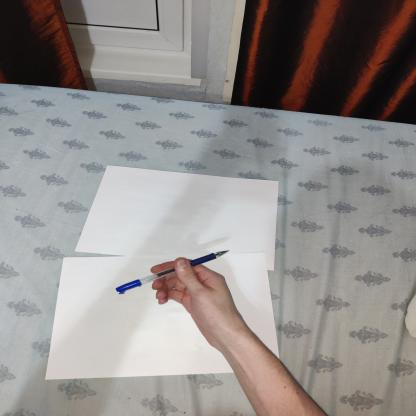Pen: (114, 245, 238, 299)
